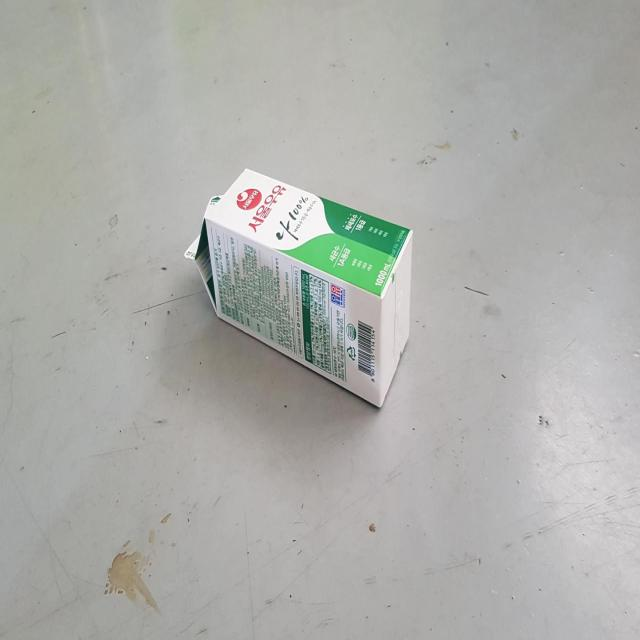paperpack: (184, 168, 413, 406)
